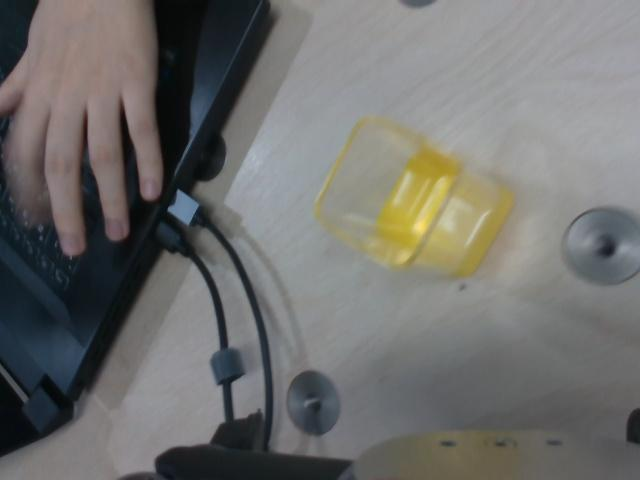yellow_cup: (376, 147, 514, 282)
